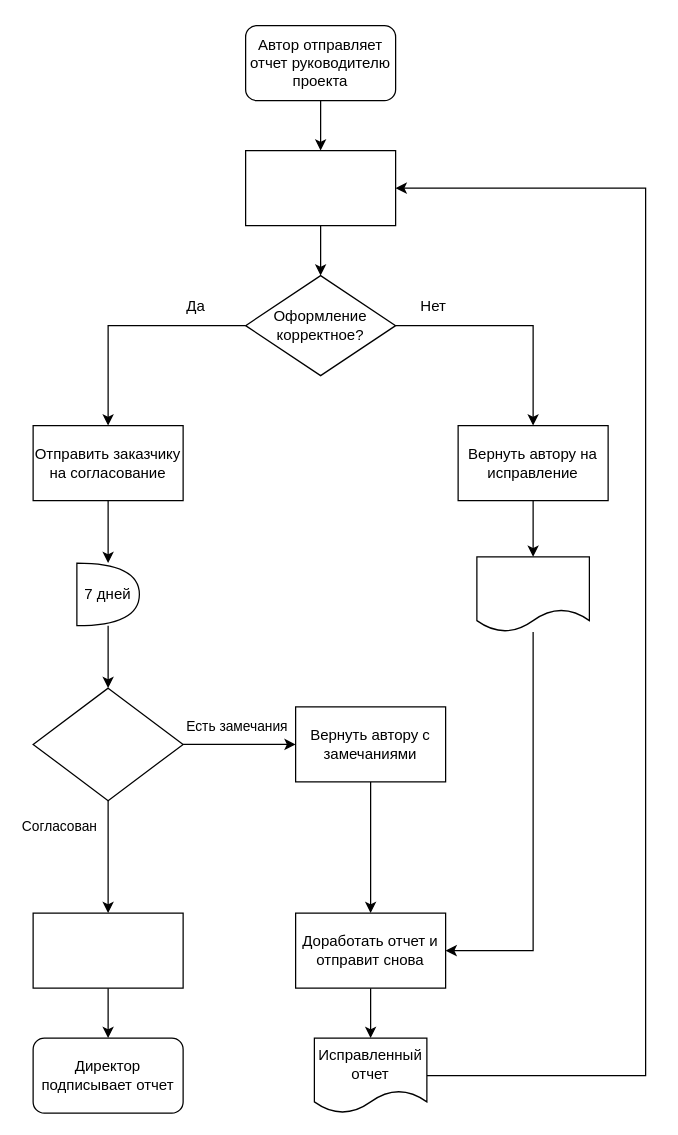
Some shapes in this 678 by 1135 pixel diagram are drawn without their labels. The centre of each missing label's shape, as x and y in pixels:
"Отчет" belongs at point (532, 594).
"Передать на подпись директору" belongs at point (107, 950).
"Результат согласования?" belongs at point (107, 744).
"Руководитель проверяет оформление отчета" belongs at point (320, 187).
